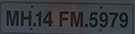character: (69, 10, 83, 28), (5, 10, 18, 27), (88, 10, 98, 29), (20, 10, 31, 27), (58, 10, 69, 27), (42, 11, 53, 27), (98, 11, 108, 28), (108, 11, 118, 28), (118, 11, 127, 28), (35, 11, 42, 27)
